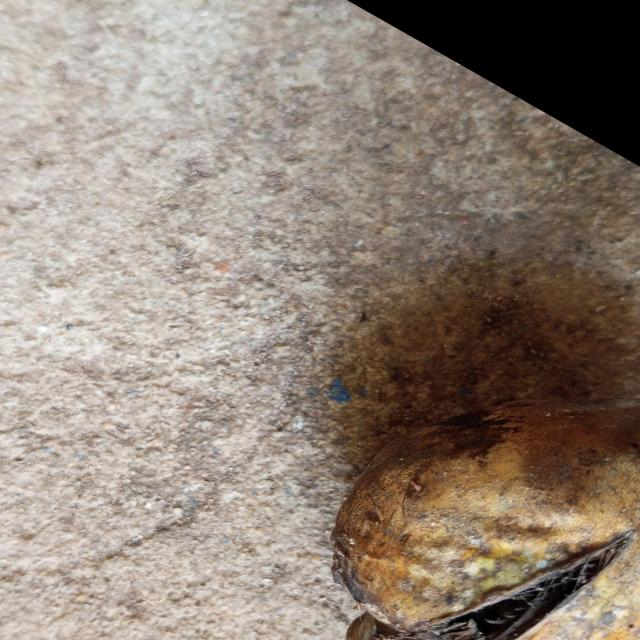damaged: (331, 402, 640, 640)
